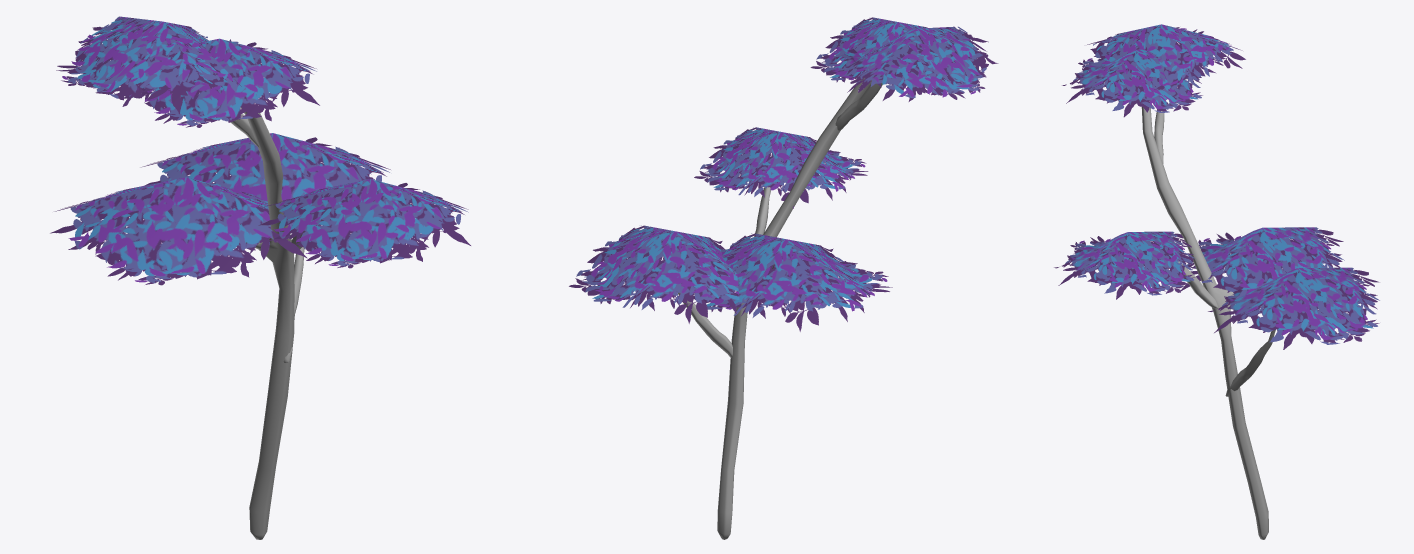
The model's file is blue_purple_tree.fbx.
The picture shows the model from 3 angles, left to right: view 1: azimuth 30°, elevation 25°; view 2: azimuth 150°, elevation 25°; view 3: azimuth 270°, elevation 25°; orthographic projection. The views are drawn at different scales.
Visible parts, largest first — view 1: pasted__ZBrush_defualt_group21; view 2: pasted__ZBrush_defualt_group21; view 3: pasted__ZBrush_defualt_group21.
Part boxes in pixels (x1=…): pasted__ZBrush_defualt_group21: x1=50, y1=16, x2=470, y2=539; pasted__ZBrush_defualt_group21: x1=569, y1=17, x2=998, y2=539; pasted__ZBrush_defualt_group21: x1=1054, y1=24, x2=1379, y2=539.
Size of the model in its own units: 1.66 by 2.17 by 1.54.
